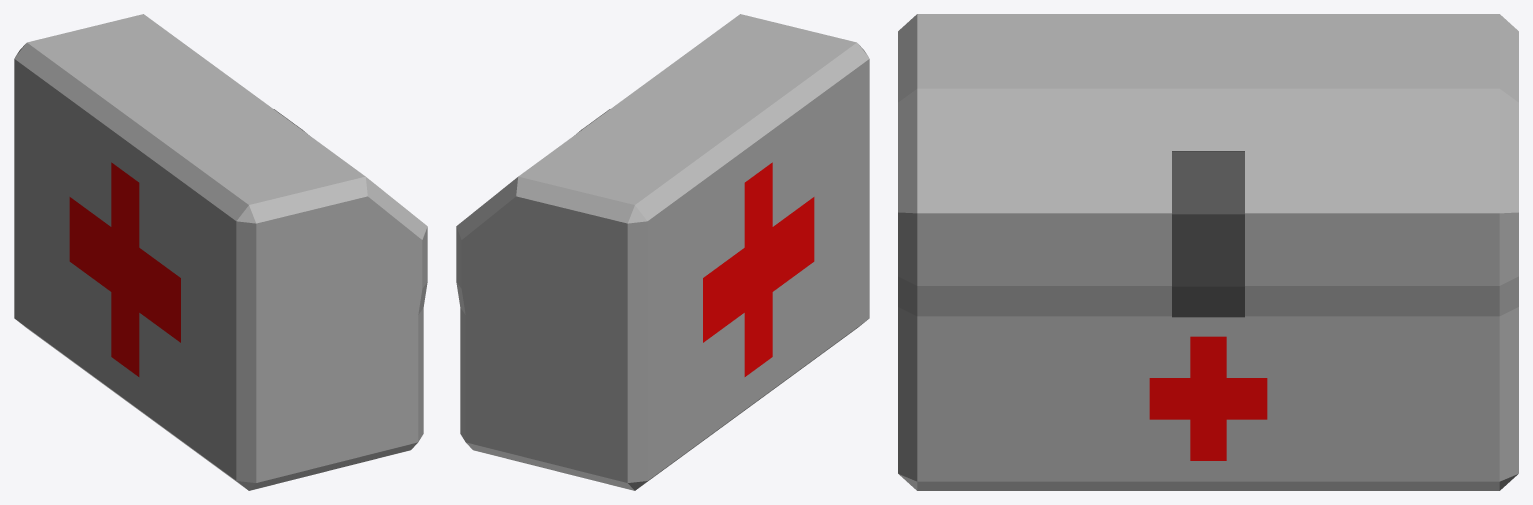
The model's file is largehealth.fbx.
The picture shows the model from 3 angles, left to right: view 1: azimuth 30°, elevation 25°; view 2: azimuth 150°, elevation 25°; view 3: azimuth 270°, elevation 25°; orthographic projection. The views are drawn at different scales.
Parts seen in each view (by area): view 1: Cube; view 2: Cube; view 3: Cube.
Boxes of the visible parts, box(x1,y1,x2,y2) form: Cube: box(14, 14, 427, 490); Cube: box(456, 14, 869, 490); Cube: box(898, 14, 1518, 490).
Bounding box in the file's own units: 142 × 200 × 300.
